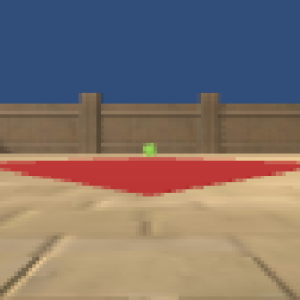deathZone: (1, 156, 300, 199)
goodGoal: (140, 142, 158, 156)
